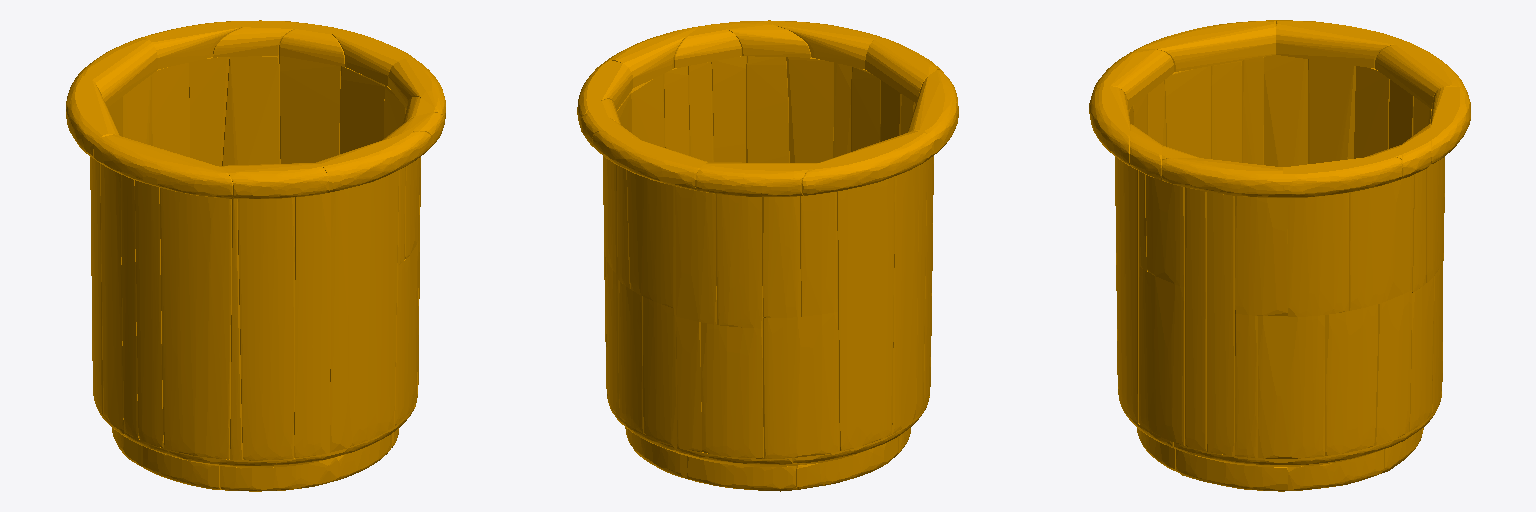
URDF robot description (065-d_cups):
<?xml version="1.0" encoding="UTF-8"?>
<robot name="065-d_cups">
	<link name="base">
		<collision>
			<geometry>
				<mesh filename="..\vhacd\065-d_cups_vhacd.obj" scale="1.0 1.0 1.0"/>
			</geometry>
			<origin xyz="0 0 0"/>
			<contact_coefficients mu="0.24" />
		</collision>
		<visual>
			<geometry>
				<mesh filename="..\vhacd\065-d_cups_vhacd.obj" scale="1.0 1.0 1.0"/>
			</geometry>
			<origin xyz="0 0 0"/>
		</visual>
		<inertial>
			<mass value="0"/>
			<inertia ixx="0.0" ixy="-0.0" ixz="0.0" iyy="0.0" iyz="0.0" izz="0.0" />
			<origin xyz="-0.018377149997877897 -0.05978666581583355 0.03158304389116194"/>
		</inertial>
	</link>
</robot>

--- Render facts (derived) ---
Views: 3 orthographic renders of the robot side by side, from view 1: azimuth 30°, elevation 25°; view 2: azimuth 150°, elevation 25°; view 3: azimuth 270°, elevation 25°.
Robot: 065-d_cups — 1 links, 0 joints (none); root link base; default pose: all joints at 0.
Visible links, largest first — view 1: base; view 2: base; view 3: base.
Link boxes in pixels (left/top/right/bottom): base: left=66, top=20, right=445, bottom=491; base: left=577, top=20, right=958, bottom=491; base: left=1089, top=20, right=1470, bottom=491.
Size in the robot's own frame: 0.0709 by 0.0709 by 0.0691 metres.
Meshes: 1 distinct files referenced, 1 mesh visuals loaded (1 OBJ).